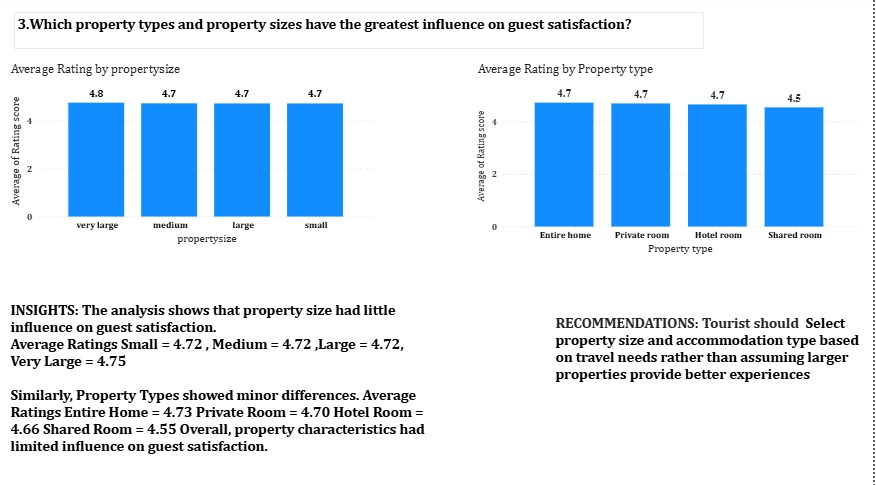

This screenshot's page, from the dashboard's own definition file:
{"tool":"powerbi","page":{"name":"Page 2","canvas":[1280,720],"ordinal":1},"visuals":[{"type":"clusteredColumnChart","title":"Average Rating  by propertysize","fields":{"Category":["Airbnb.propertysize"],"Y":["Avg(Airbnb.Rating score)"]},"box":[11.7,42.4,544.4,332.2],"z":0},{"type":"clusteredColumnChart","title":"Average Rating by Property type","fields":{"Y":["Avg(Airbnb.Rating score)"],"Category":["Airbnb.Property type"]},"box":[689.3,42.4,562,335.1],"z":1000},{"type":"textbox","box":[11.7,383.4,532.7,320.5],"z":2000},{"type":"textbox","box":[689,384,562,332],"z":3000}]}

Visuals, with their boxes in screenshot pixels (x1, y1, x2, y2), scaled from the page's 1280x720 canvas onto the 876x485 screenshot:
"Average Rating  by propertysize" clusteredColumnChart: pyautogui.locateOnScreen(8, 29, 381, 252)
"Average Rating by Property type" clusteredColumnChart: pyautogui.locateOnScreen(472, 29, 856, 254)
textbox: pyautogui.locateOnScreen(8, 258, 373, 474)
textbox: pyautogui.locateOnScreen(472, 259, 856, 482)
